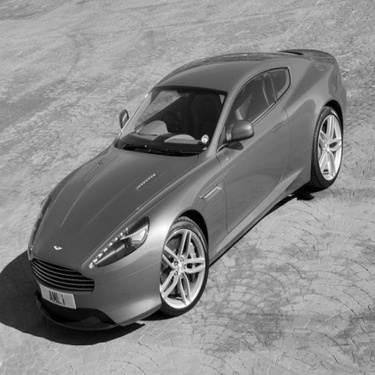car: (22, 38, 353, 338)
